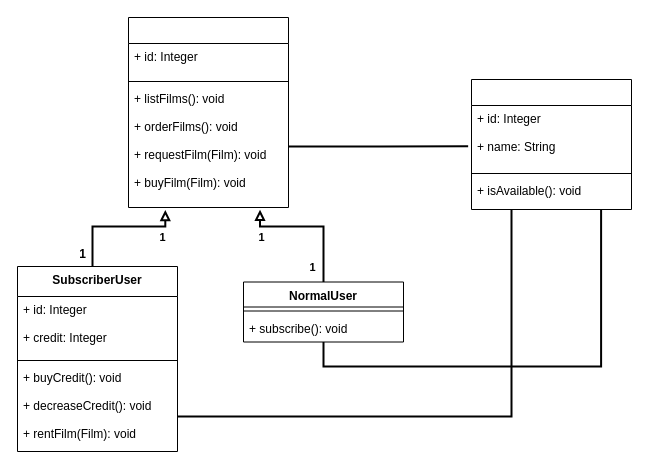
The diagram is 649 pixels wide and 472 high, and some of its shapes have lost their labels. Here are the shapes that lost their labels. From the top down, the box of each, then its label:
(128, 16, 288, 208): User
(470, 78, 632, 210): Film
